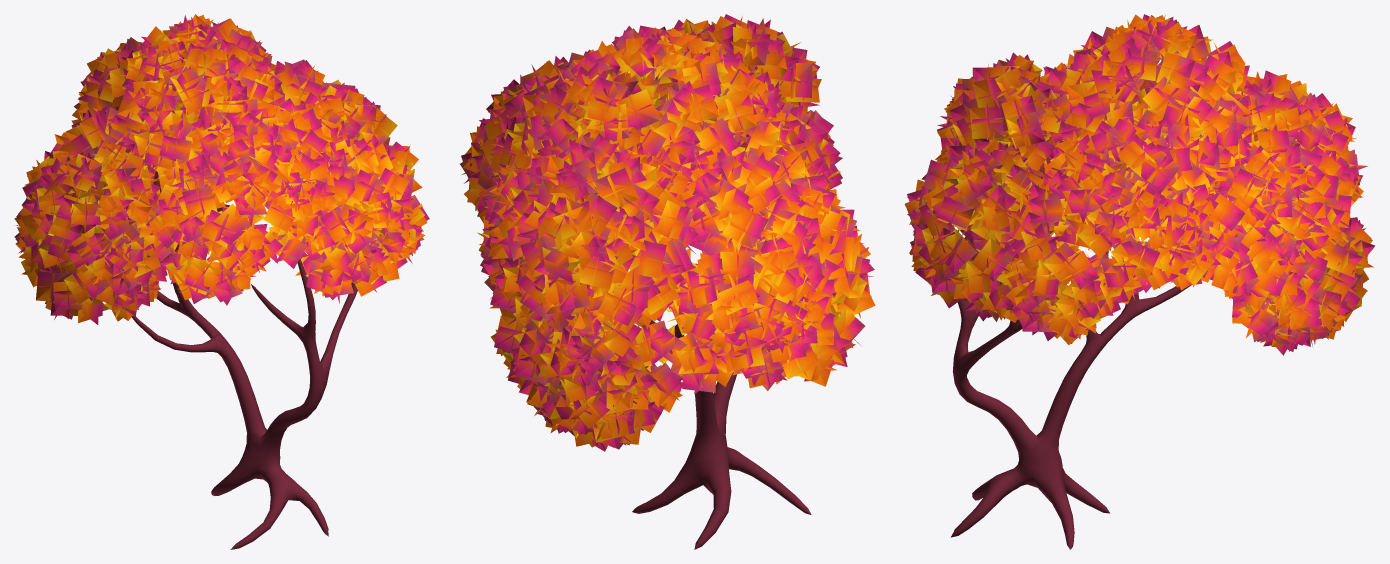
The model's file is Tree5.fbx.
3 renders of one model, left to right at view 1: azimuth 30°, elevation 25°; view 2: azimuth 150°, elevation 25°; view 3: azimuth 270°, elevation 25°, orthographic. The views are drawn at different scales.
Visible parts, largest first — view 1: Plane.012, Plane.011; view 2: Plane.012, Plane.011; view 3: Plane.012, Plane.011.
Part boxes in pixels (bbox=[...]): Plane.012: bbox=[14, 14, 429, 324]; Plane.011: bbox=[131, 233, 357, 549]; Plane.012: bbox=[460, 14, 875, 451]; Plane.011: bbox=[632, 320, 811, 549]; Plane.012: bbox=[904, 14, 1375, 355]; Plane.011: bbox=[950, 236, 1190, 549].
Size of the model in its own units: 683 by 864 by 733.
